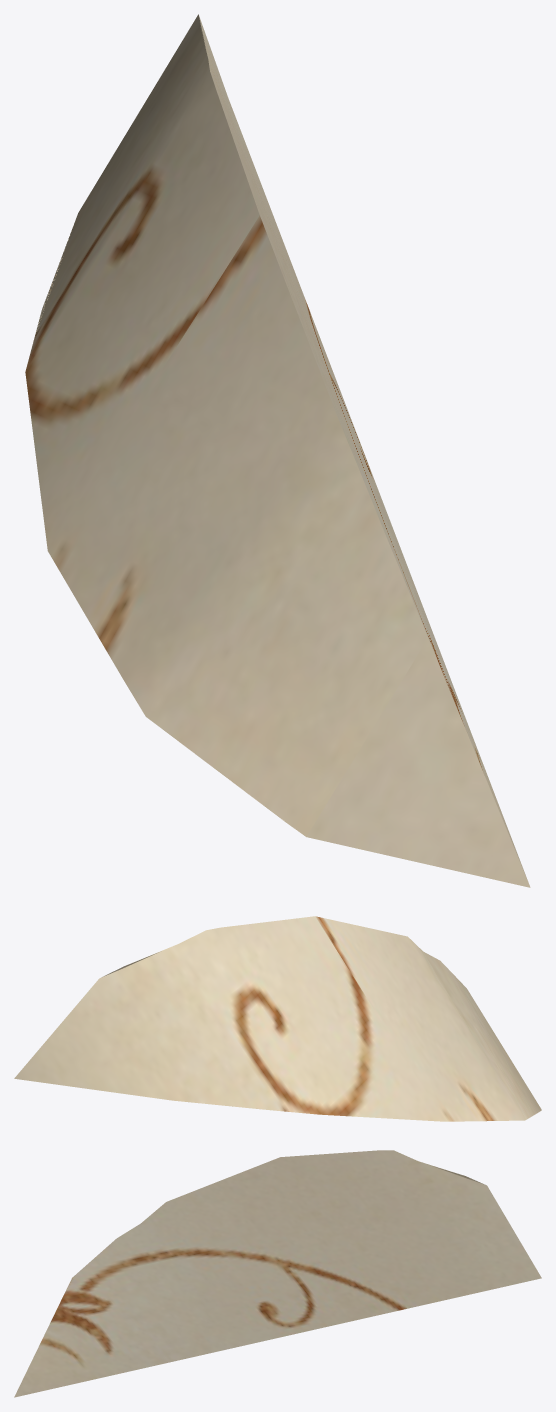
3 views of the same model, one above another, from view 1: azimuth 30°, elevation 25°; view 2: azimuth 150°, elevation 25°; view 3: azimuth 270°, elevation 25° (orthographic). The views are drawn at different scales.
Parts seen in each view (by area): view 1: Cylinder_cell.011; view 2: Cylinder_cell.011; view 3: Cylinder_cell.011.
Part boxes in pixels (box(x1,y1,x2,y2)): Cylinder_cell.011: box(25, 14, 530, 887); Cylinder_cell.011: box(14, 916, 541, 1121); Cylinder_cell.011: box(14, 1150, 541, 1397).
Size of the model in its own units: 0.1143 by 0.1246 by 0.2278.
1 material, 1 textured.
